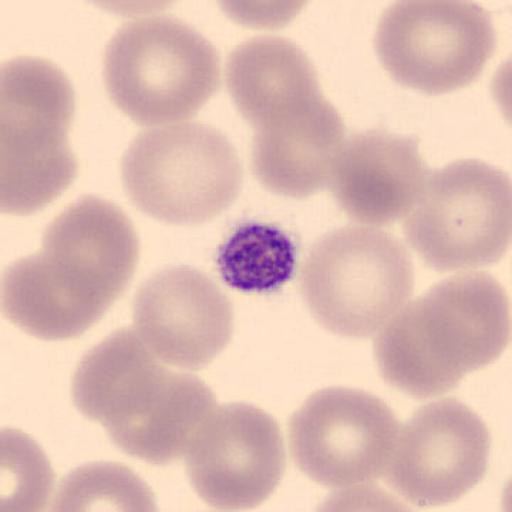Platelet: (212, 215, 304, 297)
RBC: (72, 325, 222, 468), (224, 32, 349, 202), (69, 324, 201, 434), (223, 34, 336, 162), (294, 223, 416, 340), (99, 13, 222, 128), (118, 119, 245, 229), (403, 154, 511, 273), (286, 382, 402, 492), (0, 53, 78, 215), (371, 0, 498, 99), (96, 367, 220, 467), (385, 396, 493, 508), (181, 400, 287, 511), (129, 261, 235, 372), (38, 191, 141, 305), (247, 94, 346, 201), (324, 125, 428, 226), (2, 250, 110, 342), (371, 299, 470, 399), (69, 326, 163, 424), (422, 272, 511, 370), (304, 455, 437, 512), (41, 457, 161, 512), (1, 424, 56, 512), (305, 478, 439, 512), (209, 0, 318, 32), (304, 485, 420, 512), (60, 0, 189, 20), (489, 20, 512, 130), (488, 53, 512, 128)
